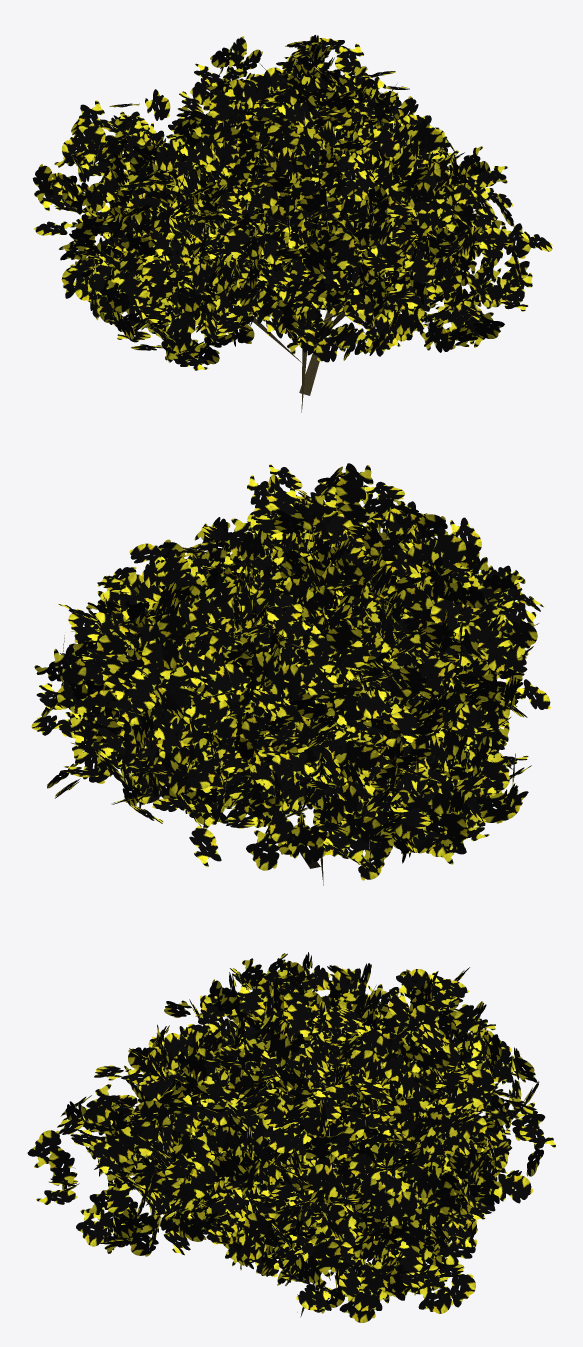
The model's file is understory_laurel_v03_LOD1.fbx.
3 renders of one model, top to bottom at view 1: azimuth 30°, elevation 25°; view 2: azimuth 150°, elevation 25°; view 3: azimuth 270°, elevation 25°, orthographic. The views are drawn at different scales.
Parts seen in each view (by area): view 1: understory_laurel_v03_LOD1; view 2: understory_laurel_v03_LOD1; view 3: understory_laurel_v03_LOD1.
Boxes of the visible parts, x1,y1,x2,y2 form: understory_laurel_v03_LOD1: (32,35,552,412); understory_laurel_v03_LOD1: (31,463,550,885); understory_laurel_v03_LOD1: (27,952,555,1322).
Bounding box in the file's own units: 857 × 961 × 658.
Materials: 2 (2 with a texture image).
